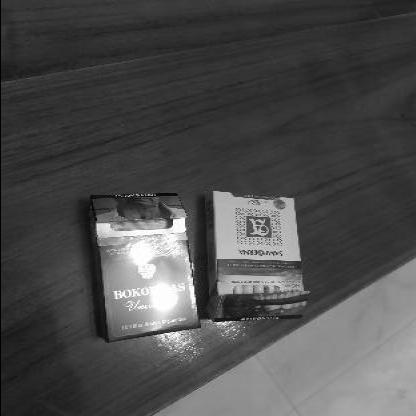objects: (89, 193, 199, 343), (205, 192, 304, 322)
